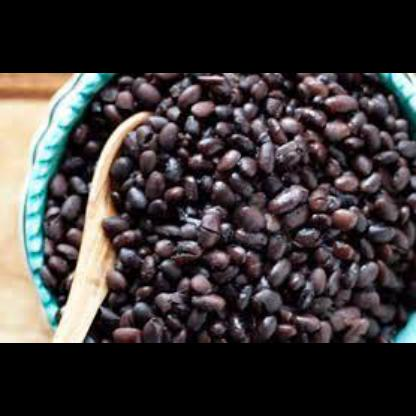black beans: (40, 72, 414, 340)
